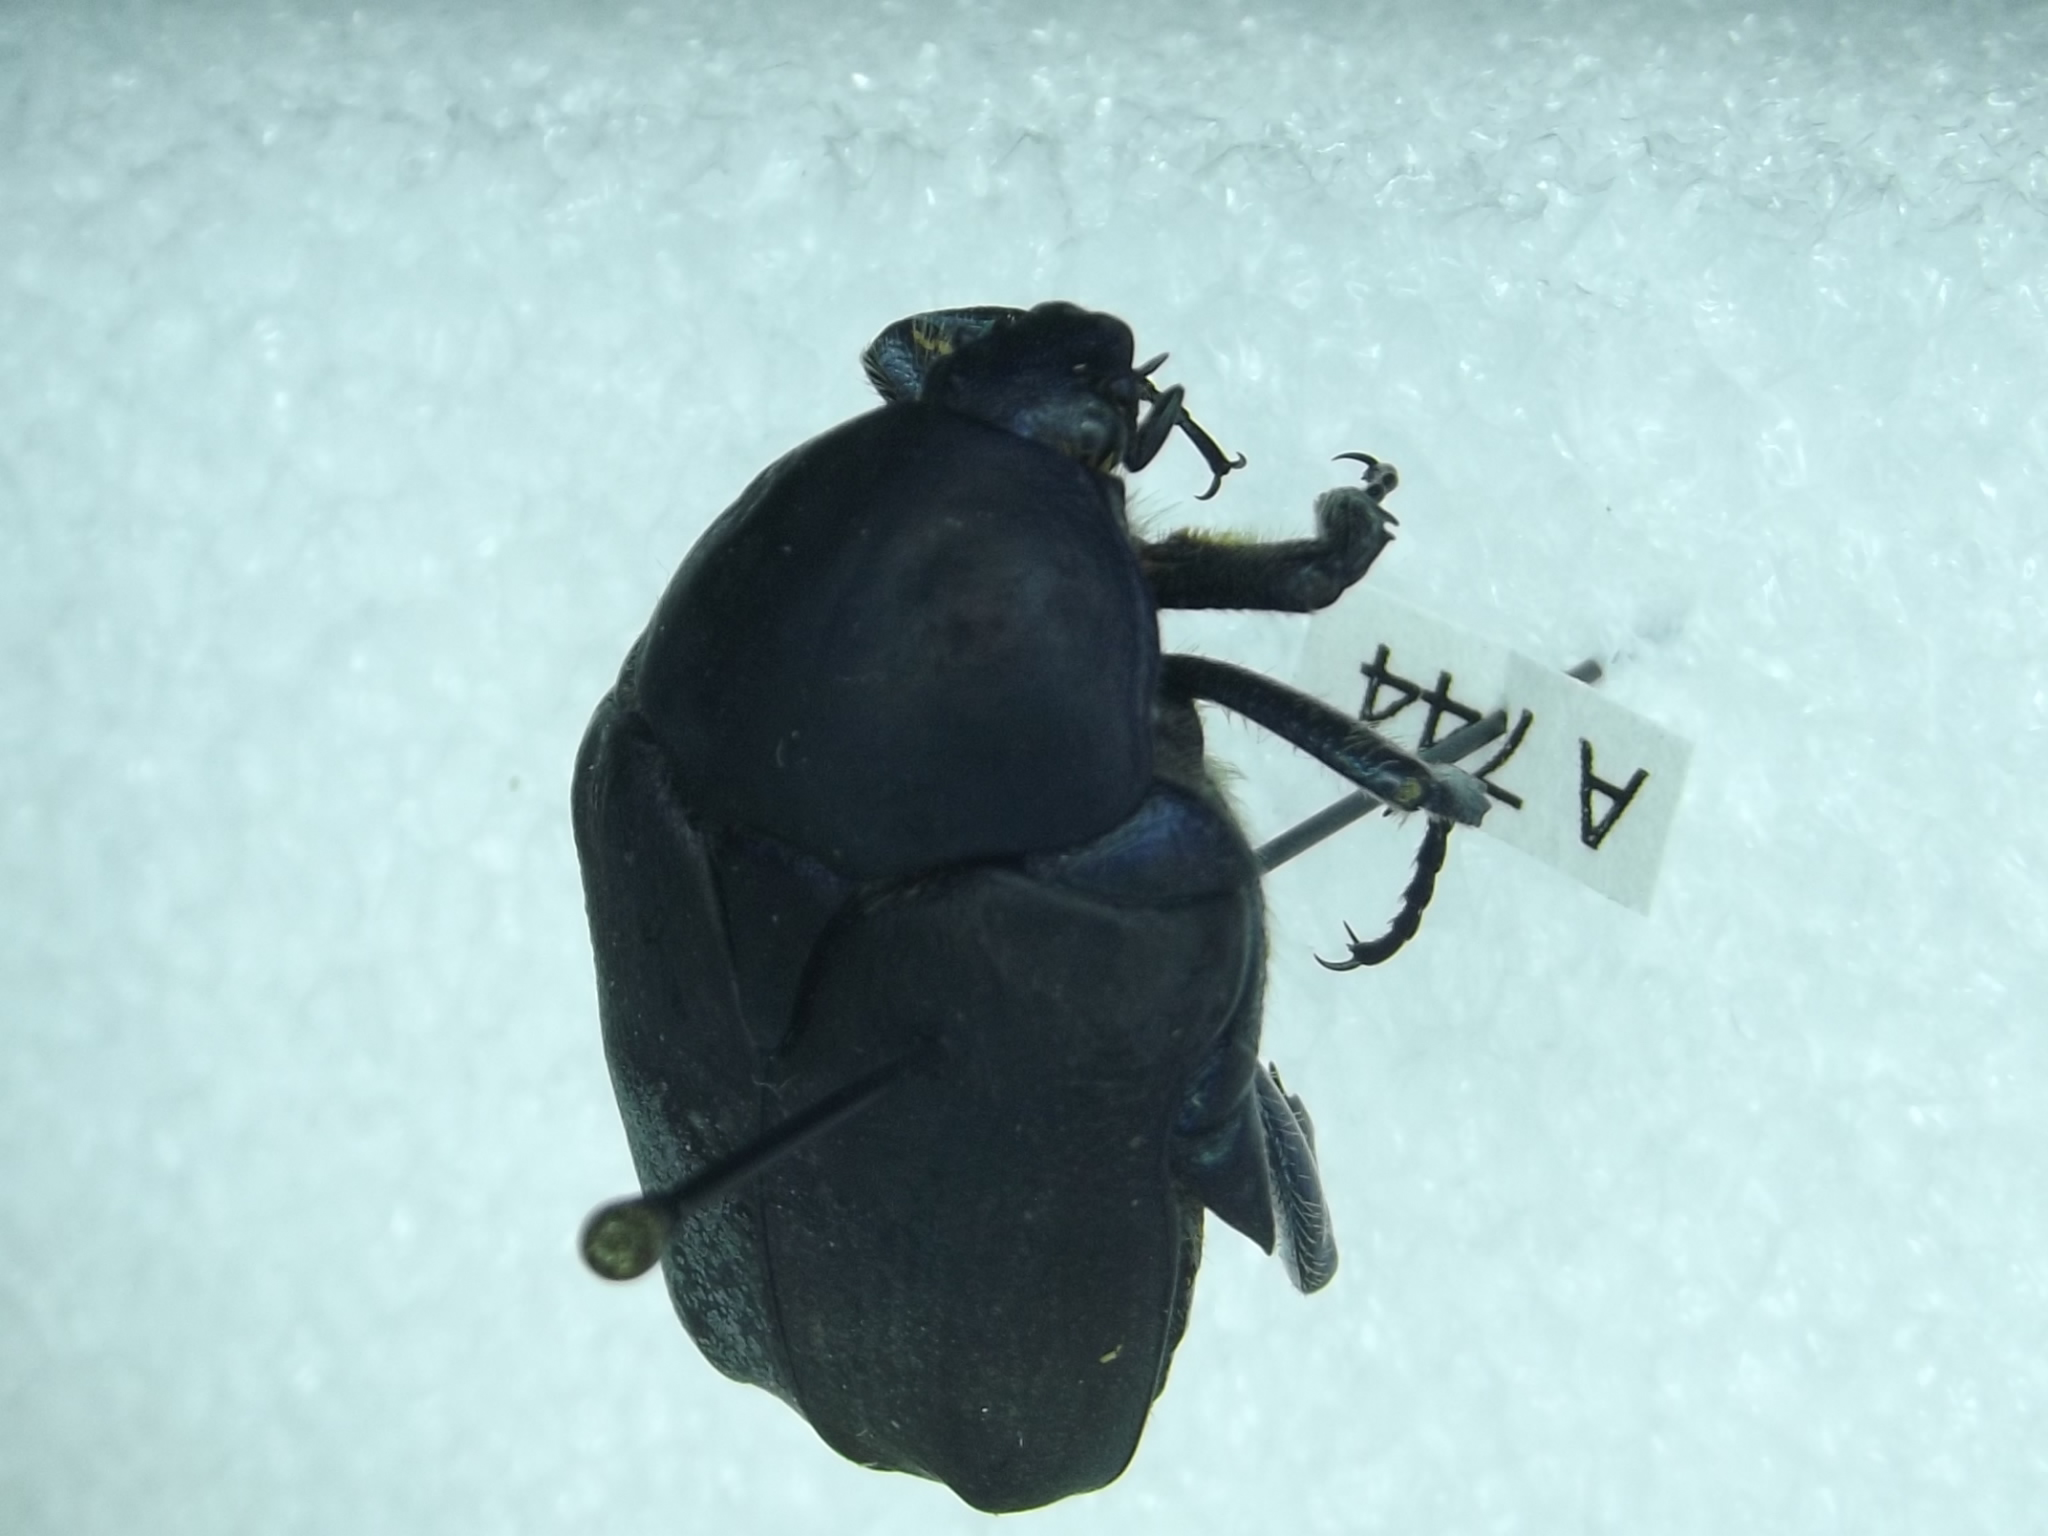Protaetia_afflicta: (569, 287, 1350, 1520)
